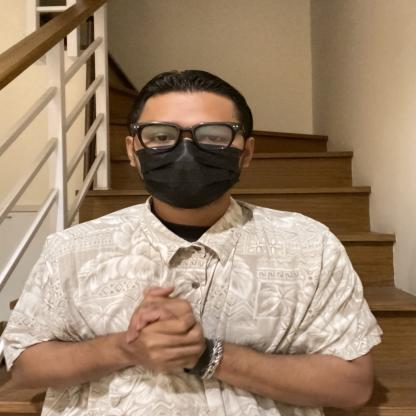Grieve: (70, 280, 310, 385)
